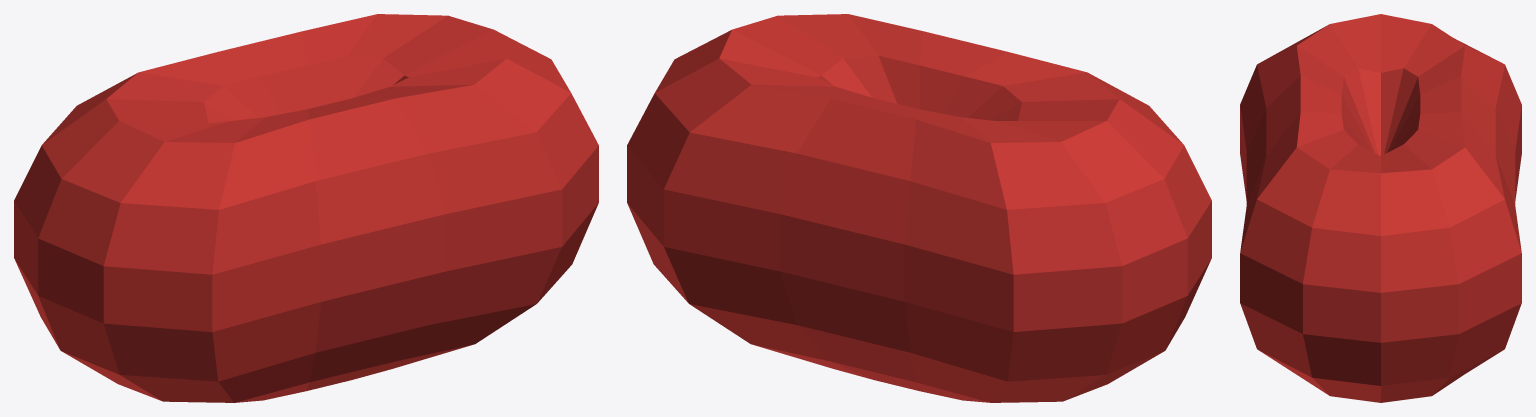
The model's file is Chuko_Red.obj.
3 renders of one model, left to right at view 1: azimuth 30°, elevation 25°; view 2: azimuth 150°, elevation 25°; view 3: azimuth 270°, elevation 25°, orthographic. The views are drawn at different scales.
Visible parts, largest first — view 1: Chuko_Red; view 2: Chuko_Red; view 3: Chuko_Red.
Boxes of the visible parts, x1,y1,x2,y2 form: Chuko_Red: (14,14,598,402); Chuko_Red: (627,14,1211,402); Chuko_Red: (1240,14,1521,402).
Size of the model in its own units: 0.2212 by 0.12 by 0.1154.
